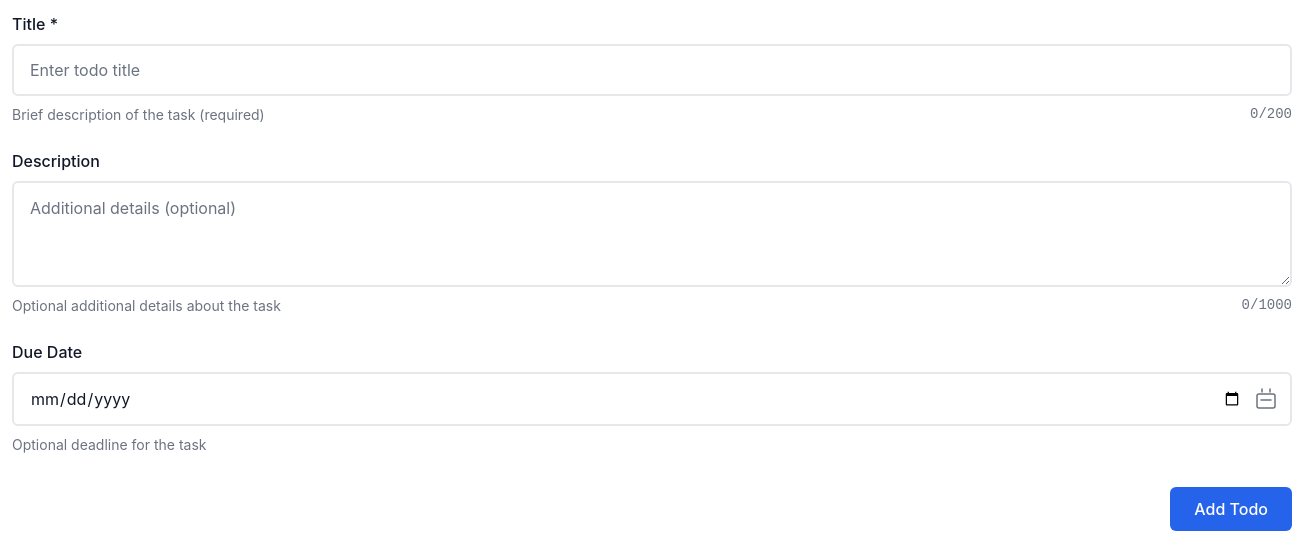
it: TodoForm › Character Counters › shows title character counter
This screenshot has width=1304, height=548.
Expected: the text "0/200" is shown, [1250, 104, 1292, 125]
Type "Test" into the field labelled "Title *" at (652, 70), box [12, 44, 1292, 96]
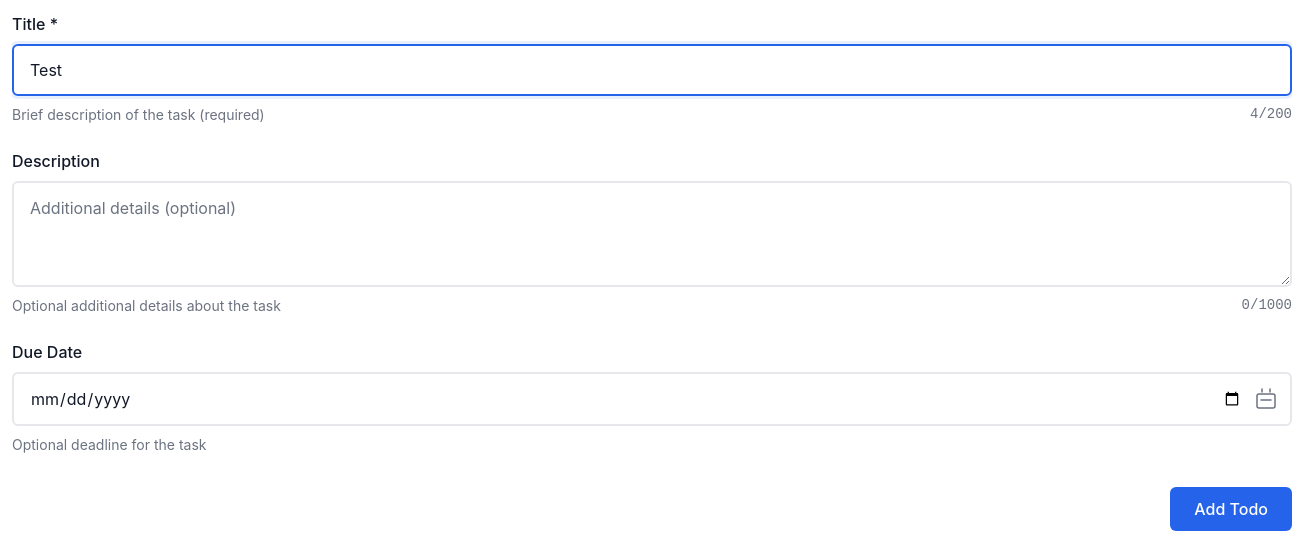
Result: the text "4/200" is shown at [1250, 104, 1292, 125]
